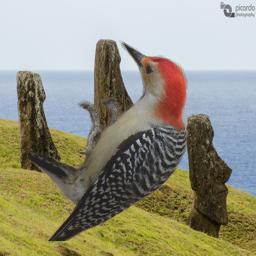Woodpecker: (28, 40, 195, 241)
